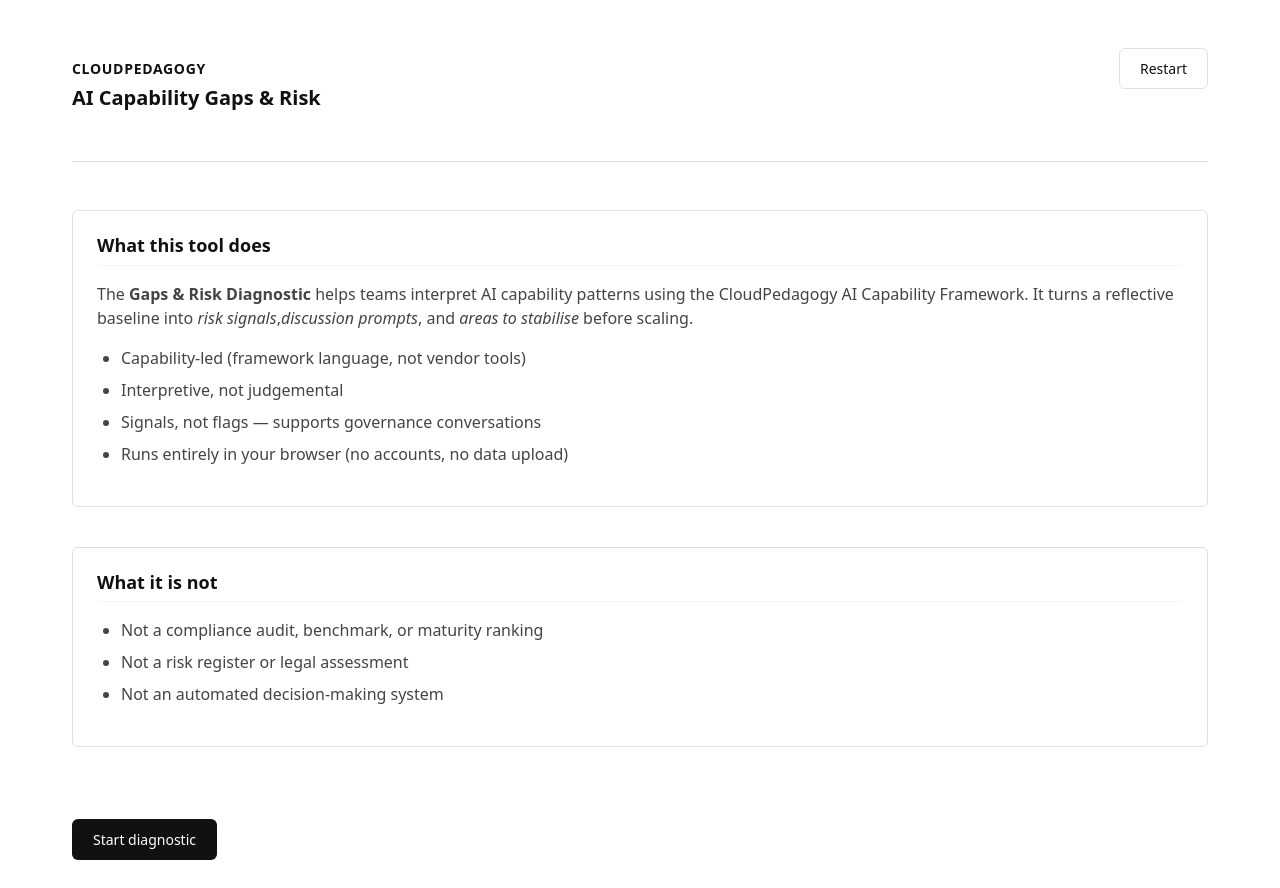
Scenario: Application End-to-End Workflow & Navigation › allows filling in context, scores, signals, and progresses to ResultsView
Step 1. Click the button "Start diagnostic" → click(144, 840), box x1=72 y1=819 x2=217 y2=860
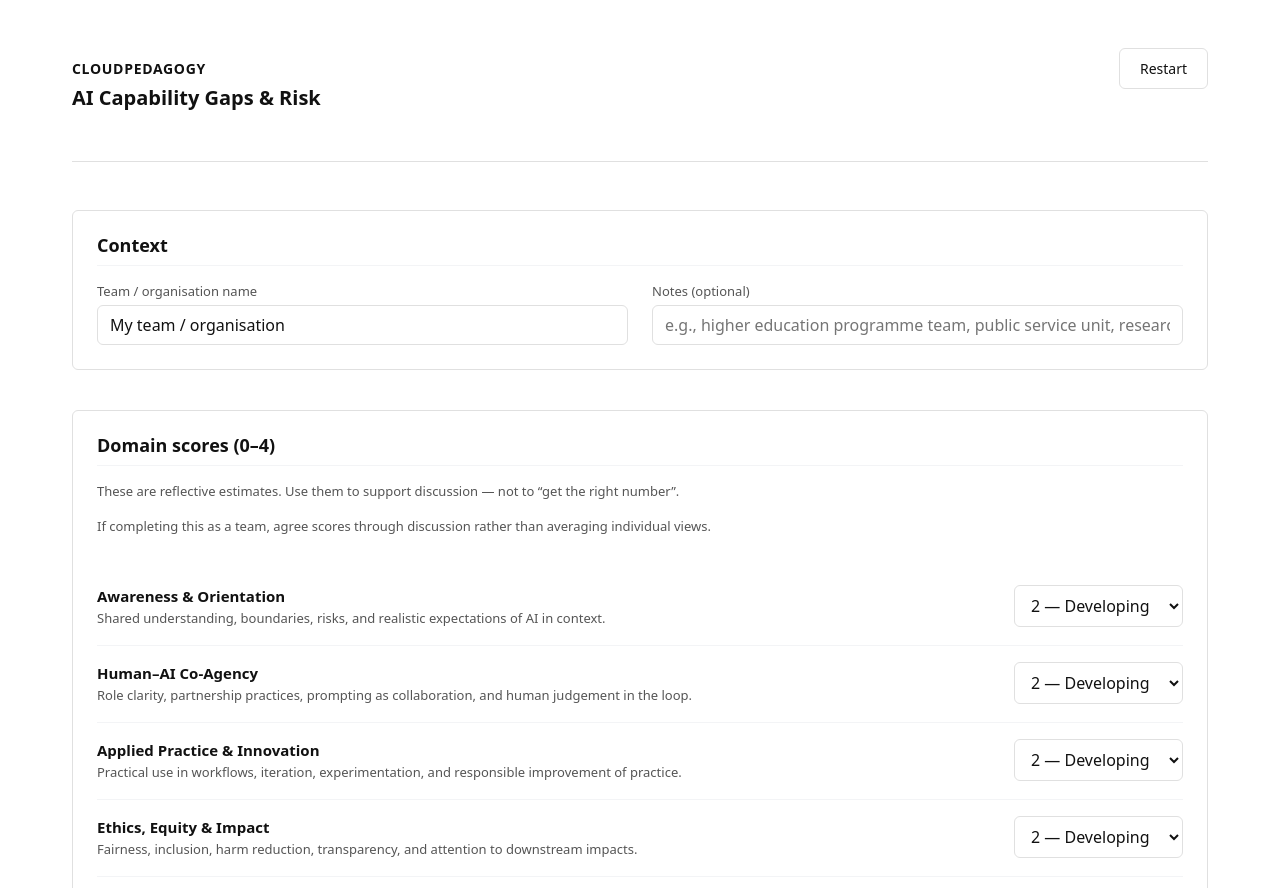
Fill in org name
Step 2. Replace the text in the field showing "My team / organisation" with "Faculty of Medicine" → (362, 325), box x1=97 y1=305 x2=628 y2=345
(page scrolled)
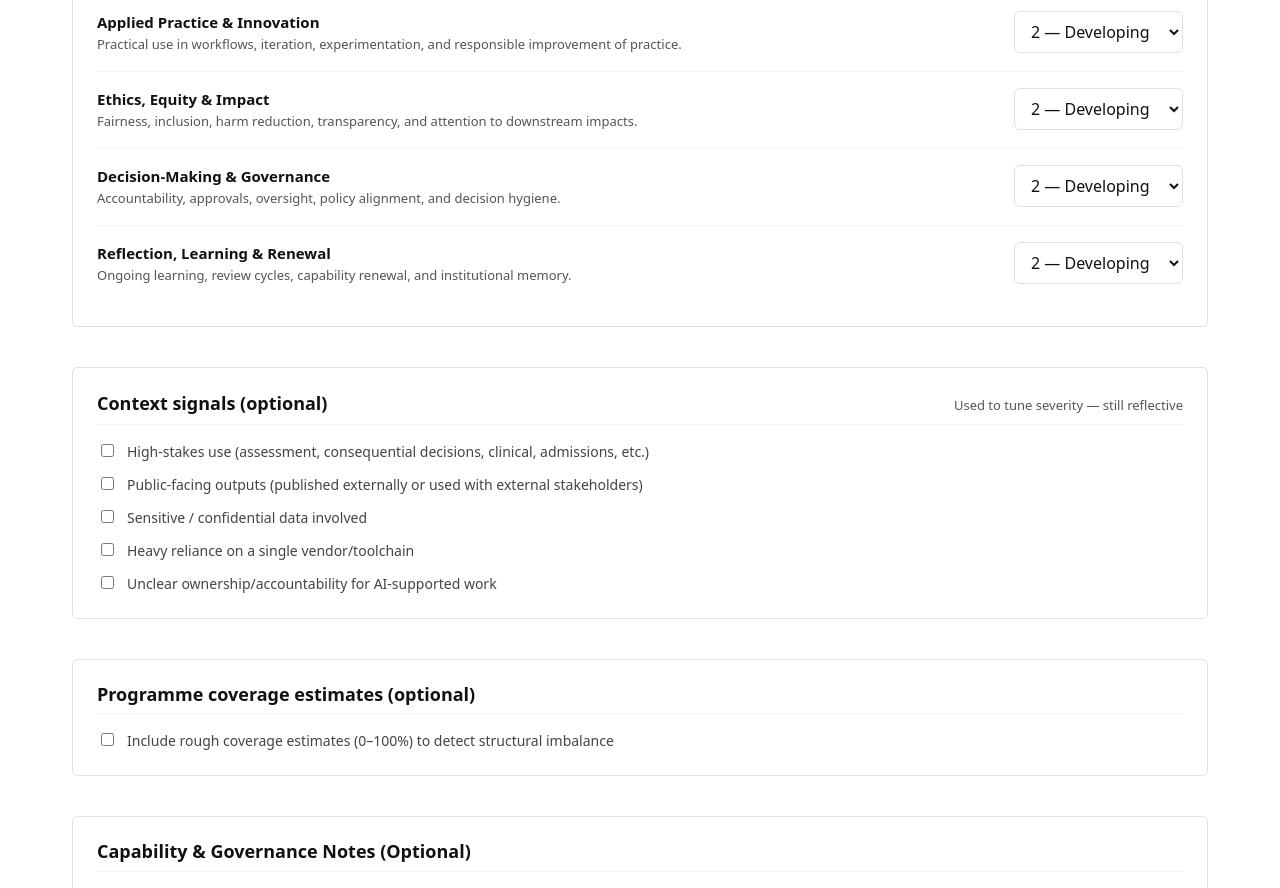
Select high-stakes checkbox
Step 3. Click the checkbox labelled "High-stakes use" → click(108, 450), box x1=101 y1=444 x2=114 y2=457
(page scrolled)
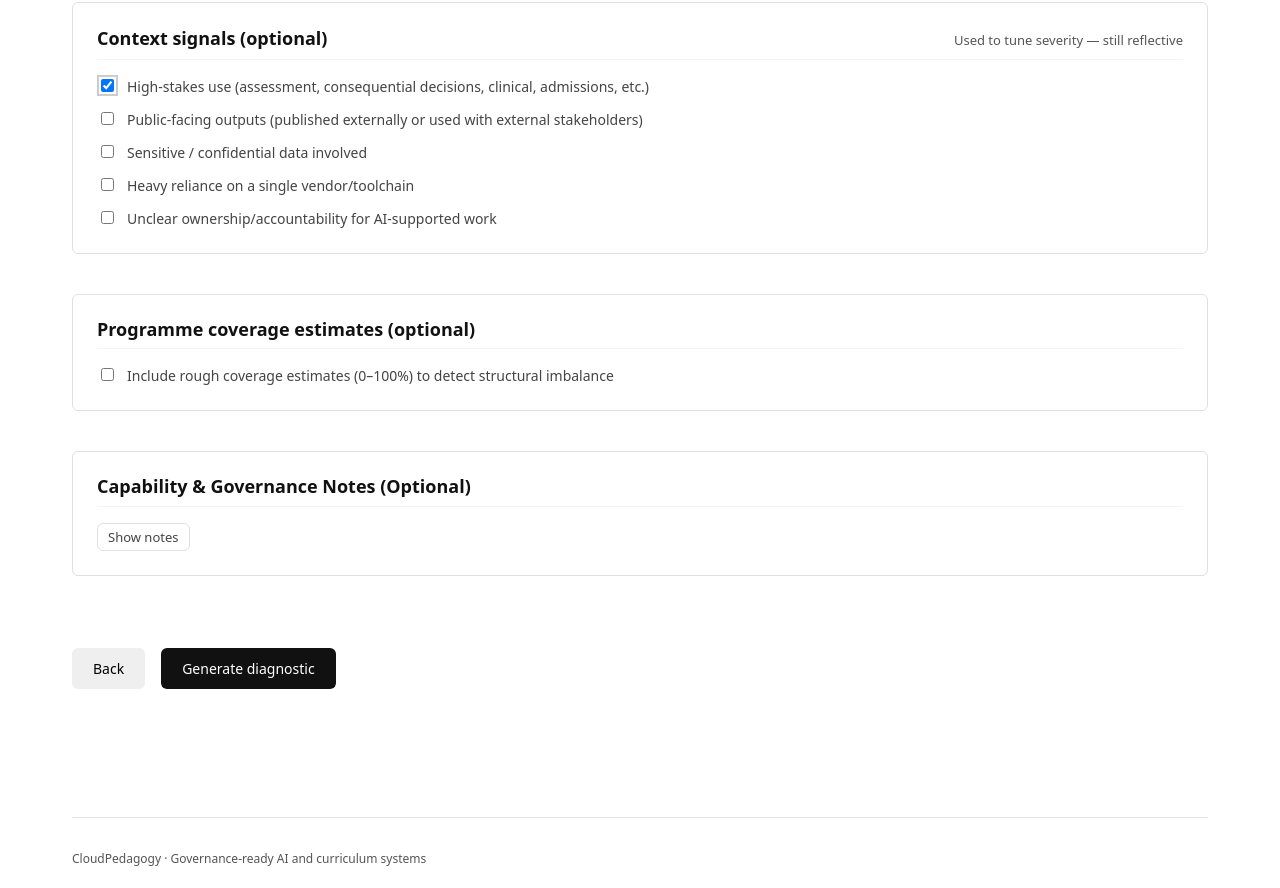
Now the checkbox labelled "High-stakes use" is checked, box x1=101 y1=79 x2=114 y2=92
Toggle notes and add notes
Step 4. Click the button "Show notes" → click(143, 537), box x1=97 y1=523 x2=190 y2=551
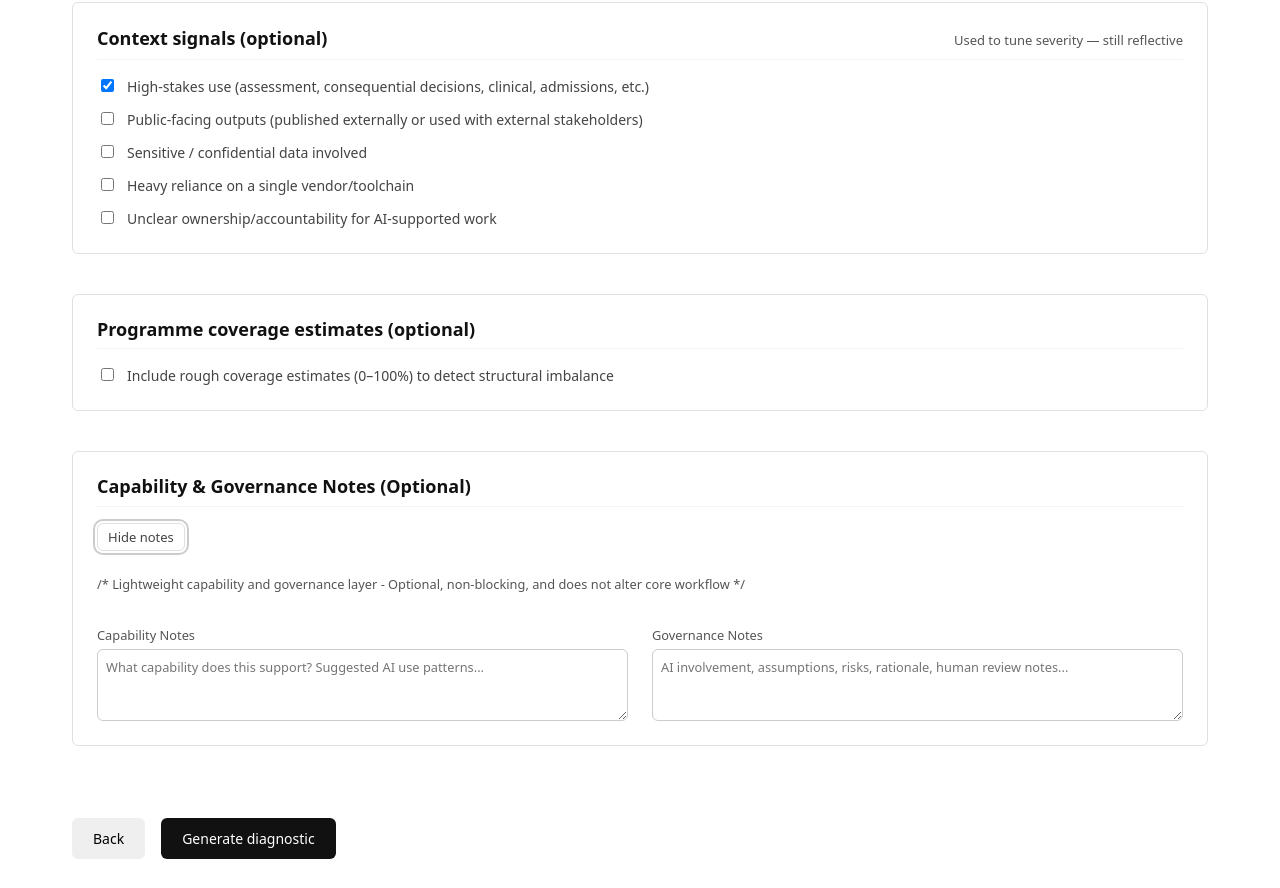
Step 5. Type "Clinical decision aids" into the text box with placeholder "What capability does this support" → (362, 685), box x1=97 y1=649 x2=628 y2=721
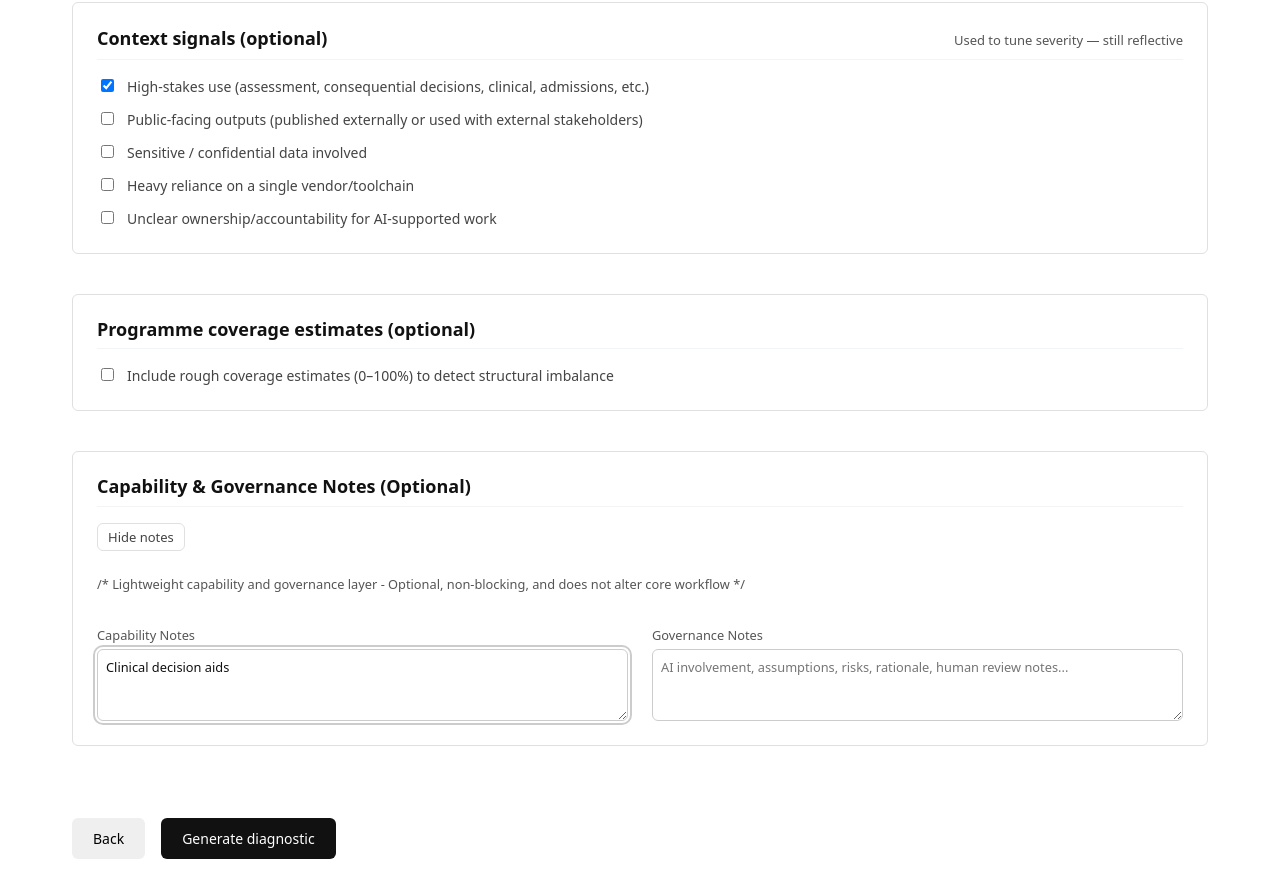
Click Generate diagnostic
Step 6. Click the button "Generate diagnostic" → click(248, 839), box x1=161 y1=818 x2=336 y2=859
(page scrolled)
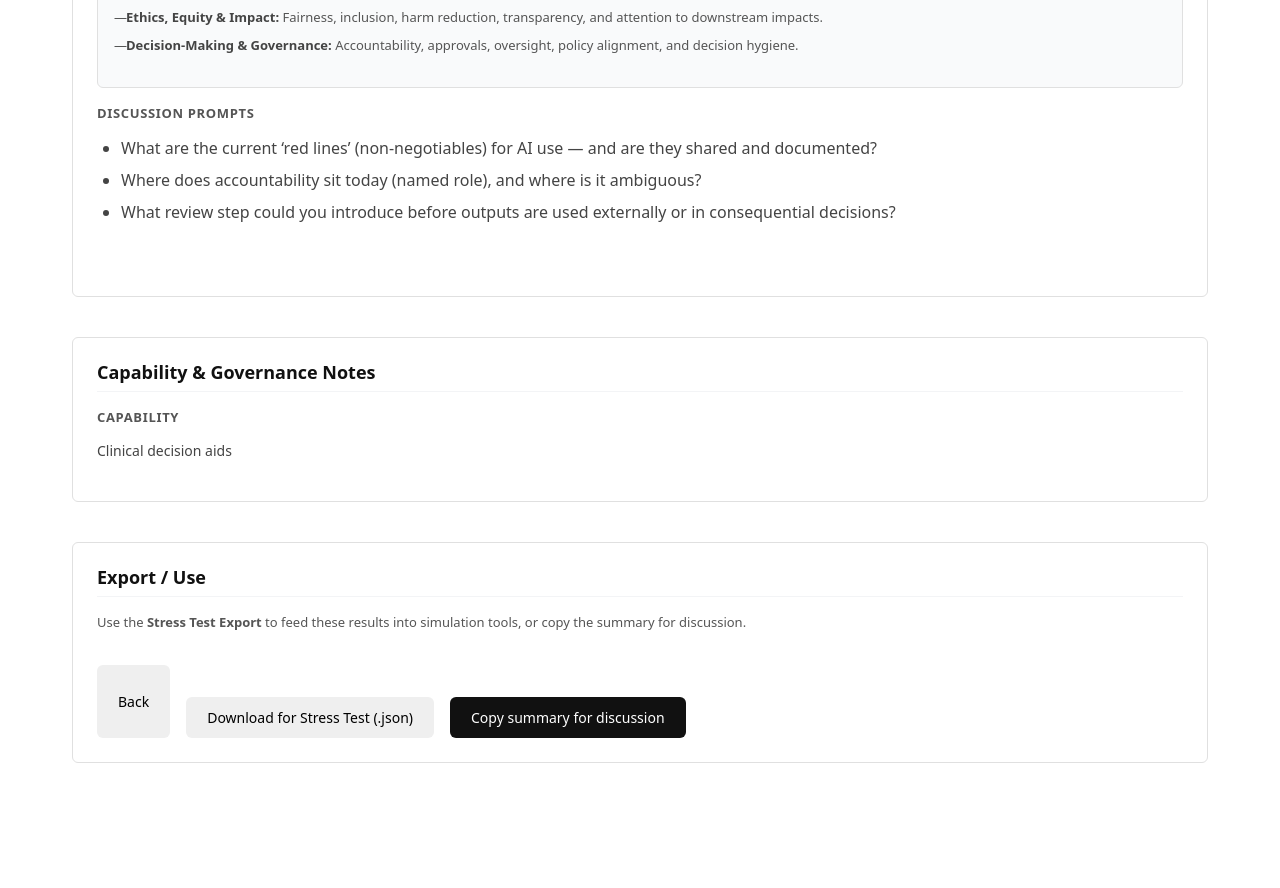
Now the heading "Capability & Governance Notes" is shown, box x1=97 y1=362 x2=376 y2=383
Now the text "Clinical decision aids" is shown, box x1=97 y1=441 x2=232 y2=460
